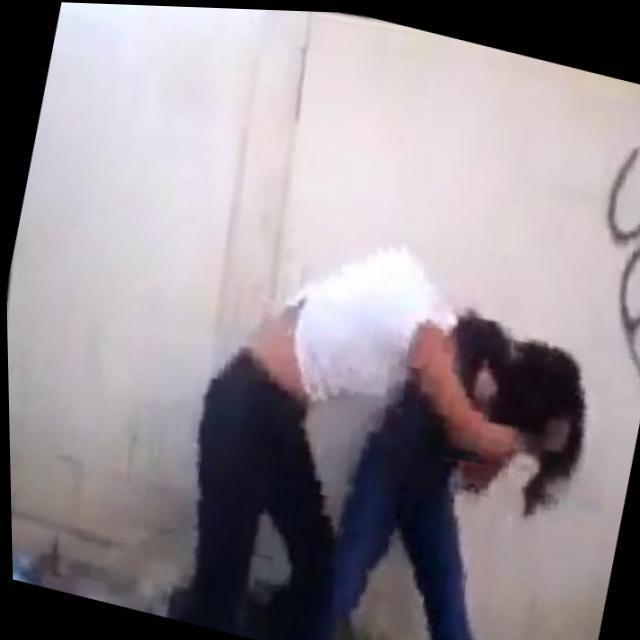fight: (149, 194, 619, 640)
